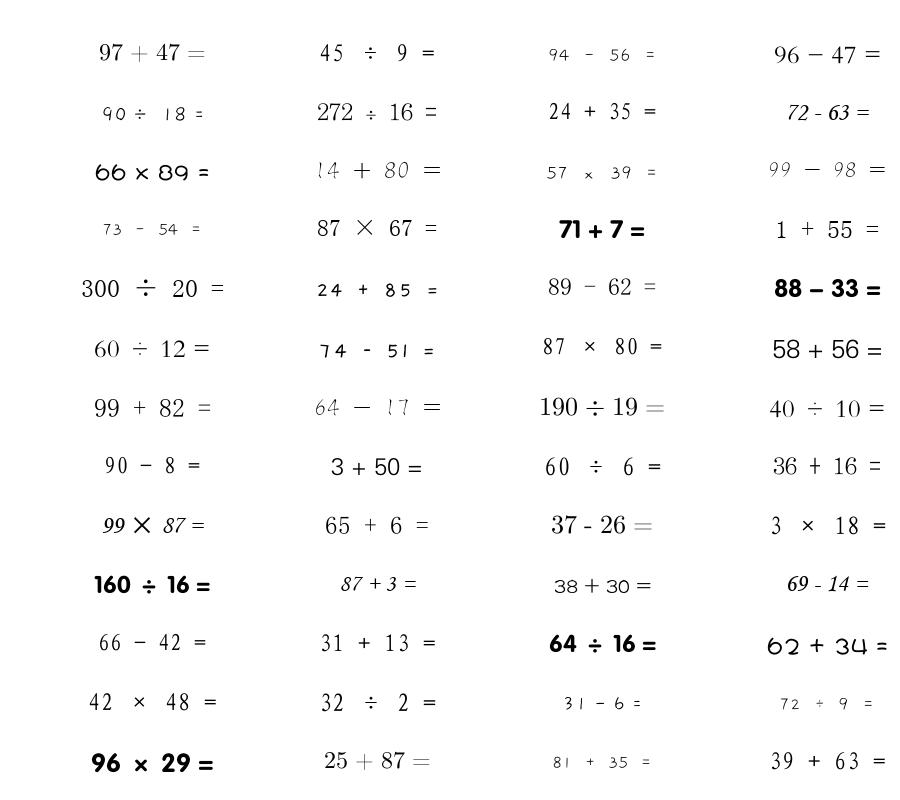MQ: (81, 279, 224, 297), (91, 753, 214, 773), (539, 397, 665, 416), (88, 693, 217, 711), (314, 161, 441, 179), (314, 398, 441, 416), (544, 457, 661, 476), (769, 516, 886, 535), (319, 693, 436, 712), (772, 339, 883, 359), (94, 575, 210, 594), (767, 637, 888, 655), (317, 103, 437, 121), (542, 337, 662, 355), (774, 278, 881, 298), (94, 399, 211, 417), (319, 634, 436, 652), (769, 752, 886, 770), (319, 44, 435, 62), (94, 340, 210, 358), (769, 400, 885, 418), (317, 219, 437, 236), (99, 43, 206, 62), (549, 634, 656, 653), (324, 751, 431, 770), (95, 164, 210, 181), (548, 102, 656, 120), (773, 457, 881, 475), (98, 633, 206, 651), (551, 515, 653, 534), (774, 46, 881, 64), (325, 516, 429, 534), (548, 278, 656, 295), (768, 162, 886, 177), (775, 221, 879, 238), (101, 517, 204, 534), (104, 456, 200, 474), (316, 283, 439, 297), (331, 458, 423, 476), (318, 344, 436, 358), (101, 106, 204, 122), (559, 220, 645, 239), (546, 166, 658, 180), (554, 578, 651, 594), (548, 48, 657, 62), (785, 104, 869, 121), (785, 575, 869, 592), (779, 697, 875, 711), (102, 223, 202, 236), (552, 756, 652, 769), (562, 696, 642, 711), (339, 576, 416, 591)
